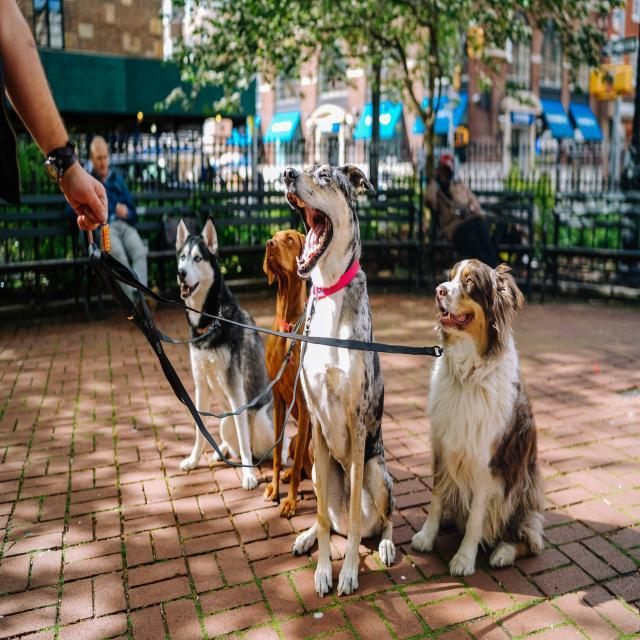Dogs: (282, 155, 399, 600), (408, 252, 543, 583), (172, 216, 292, 492), (260, 228, 342, 519)
